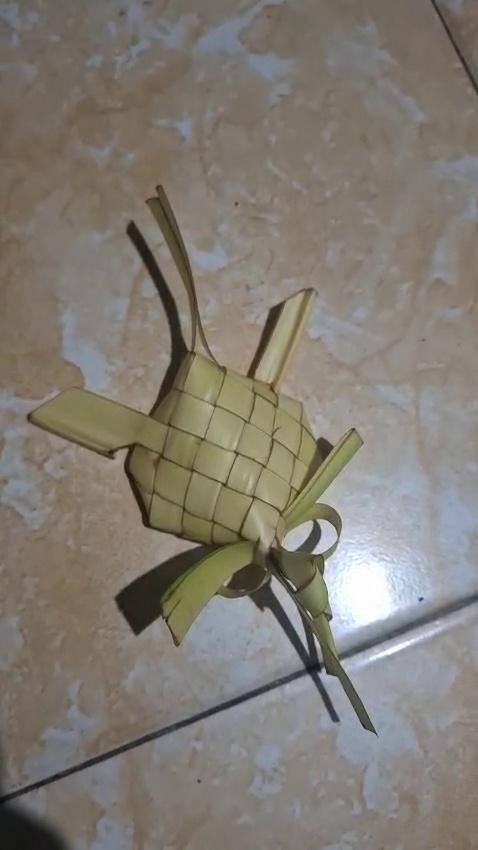Tipat Dampulan: (24, 179, 393, 744)
